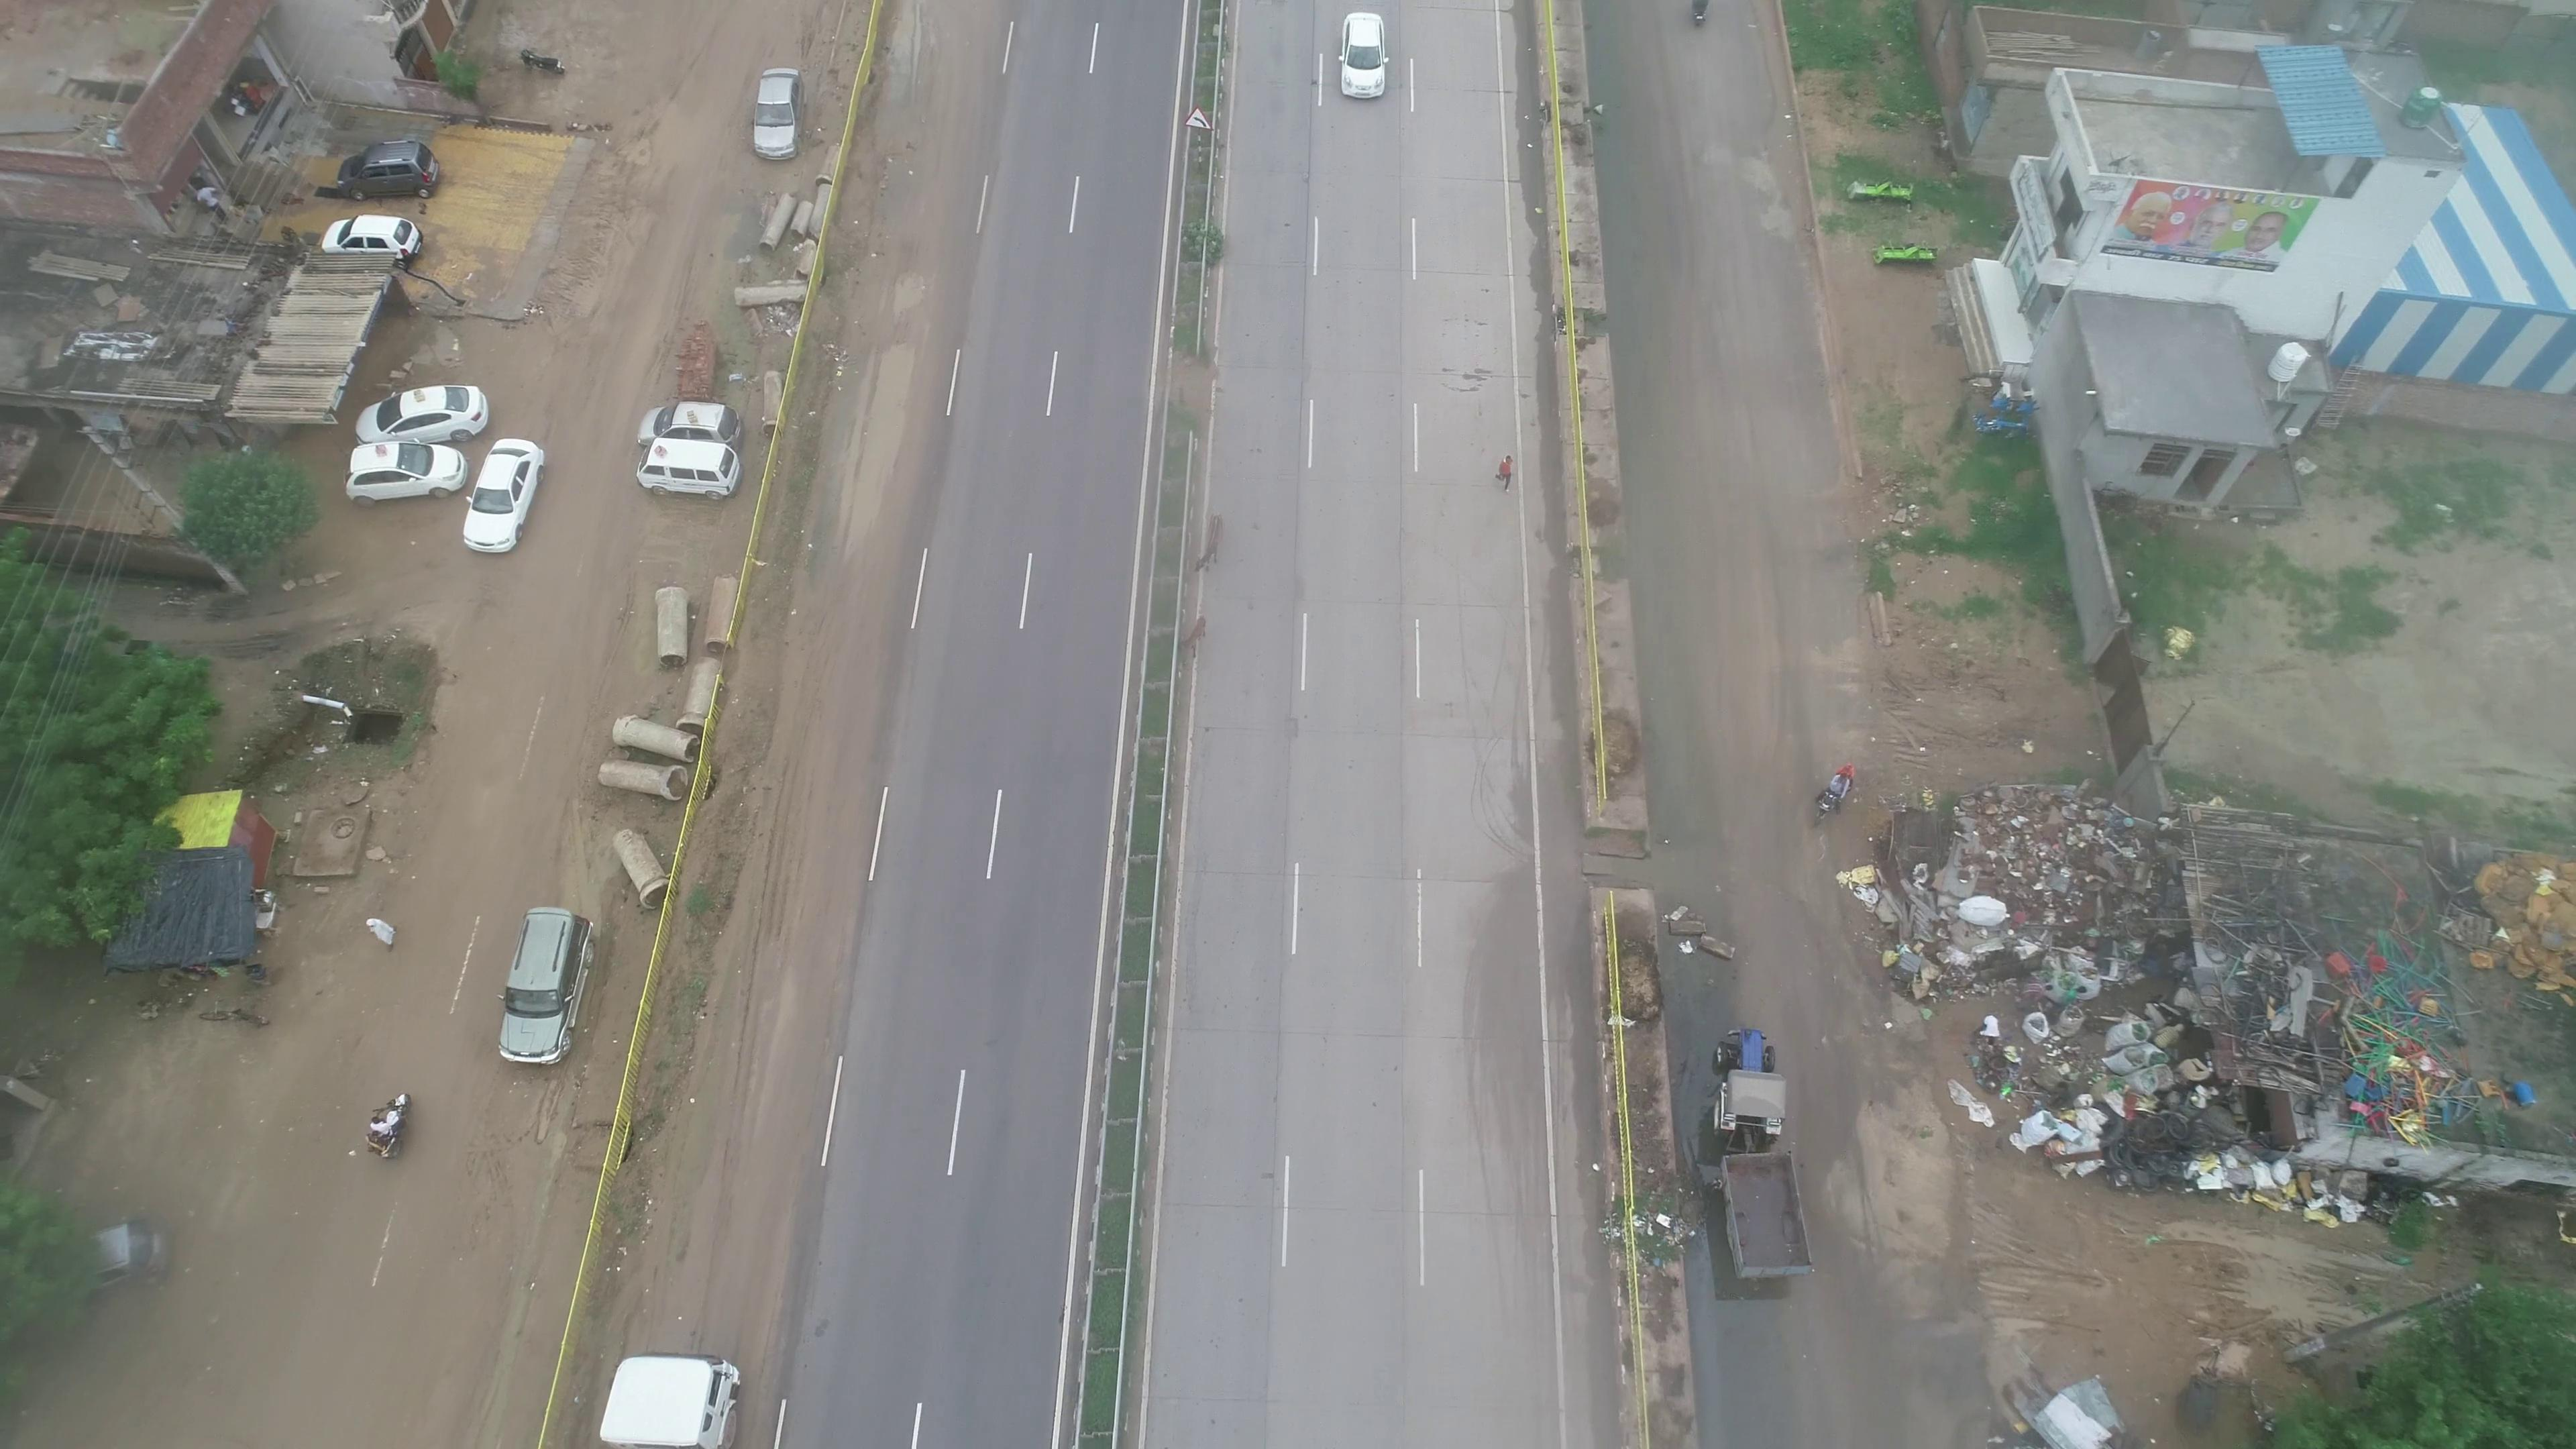Muddy_road: (639, 893, 874, 1316), (803, 19, 1000, 421), (725, 449, 913, 833)
